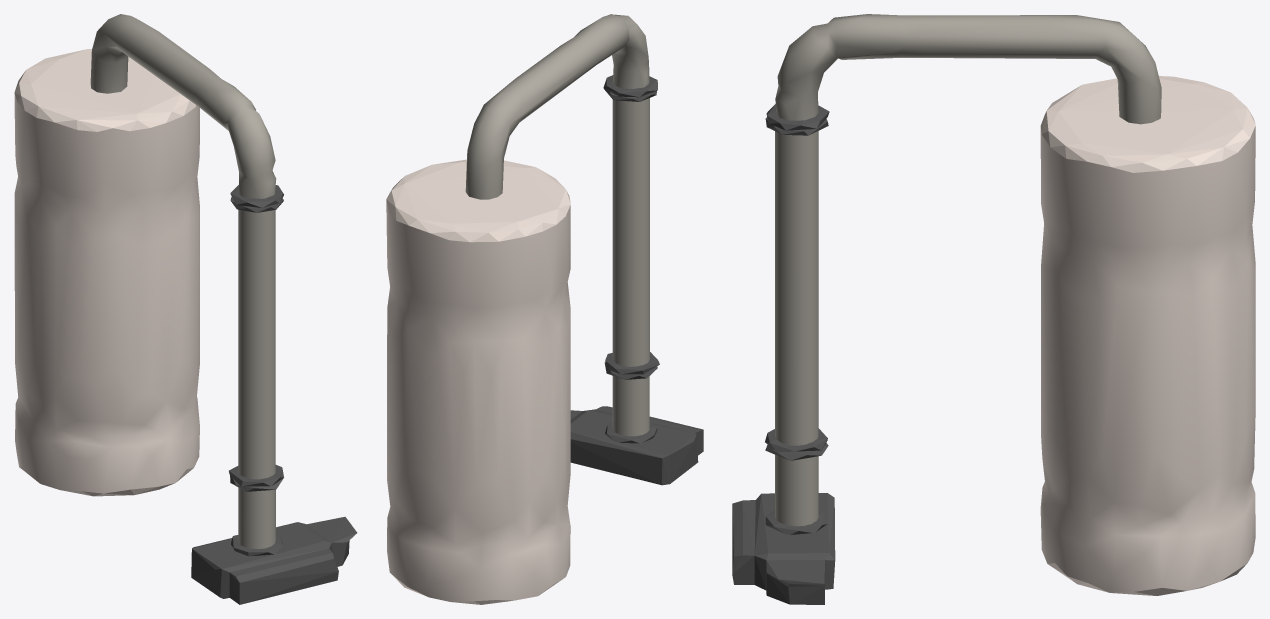
File: connected_capsule_01.fbx
3 views of the same model, side by side, from view 1: azimuth 30°, elevation 25°; view 2: azimuth 150°, elevation 25°; view 3: azimuth 270°, elevation 25° (orthographic). The views are drawn at different scales.
Visible parts, largest first — view 1: connected_capsule_01; view 2: connected_capsule_01; view 3: connected_capsule_01.
Part boxes in pixels (x1,y1,x2,y2): connected_capsule_01: (14, 14, 357, 604); connected_capsule_01: (386, 14, 703, 604); connected_capsule_01: (732, 14, 1255, 604).
Bounding box in the file's own units: 157 × 392 × 344.
